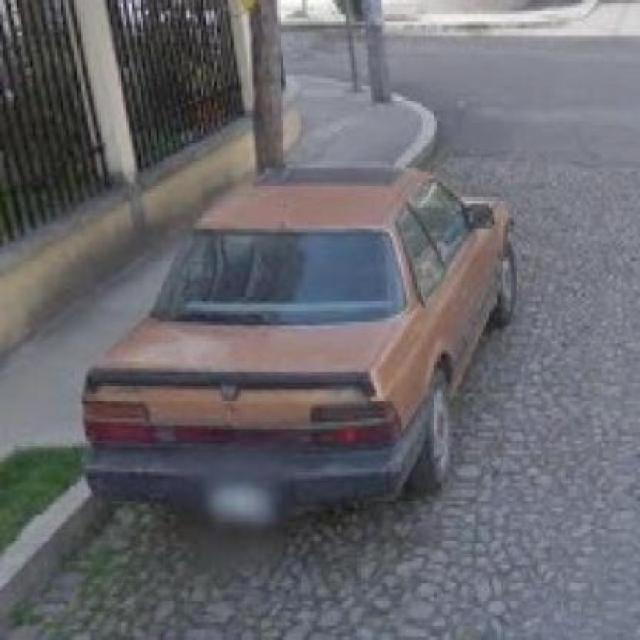car: (85, 178, 518, 520)
